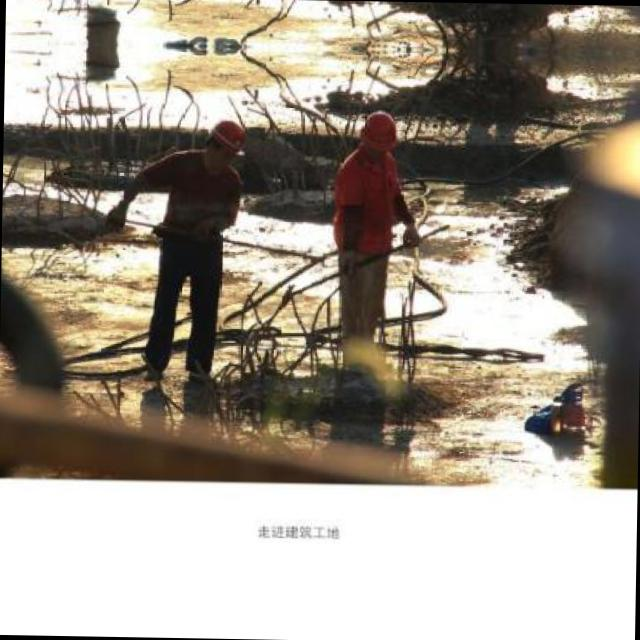helmet: (354, 108, 396, 162), (200, 119, 243, 171)
